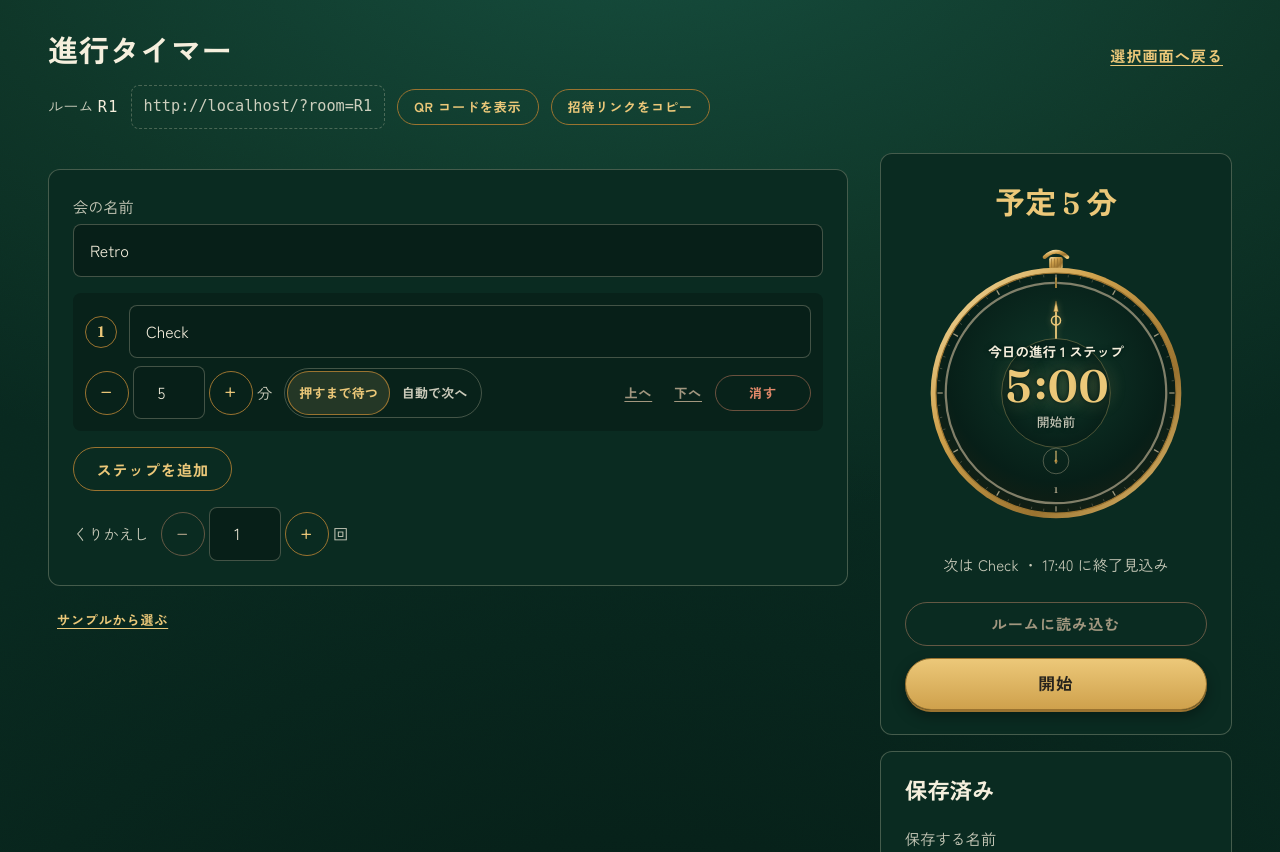
Test: サンプルから選ぶ › Given ルームに KPT があり下書きがその写しのまま / When 朝会を選ぶ / Then 確かめずに読み込む
Click the button "サンプルから選ぶ" at coordinates (113, 620), box left=48, top=602, right=177, bottom=638
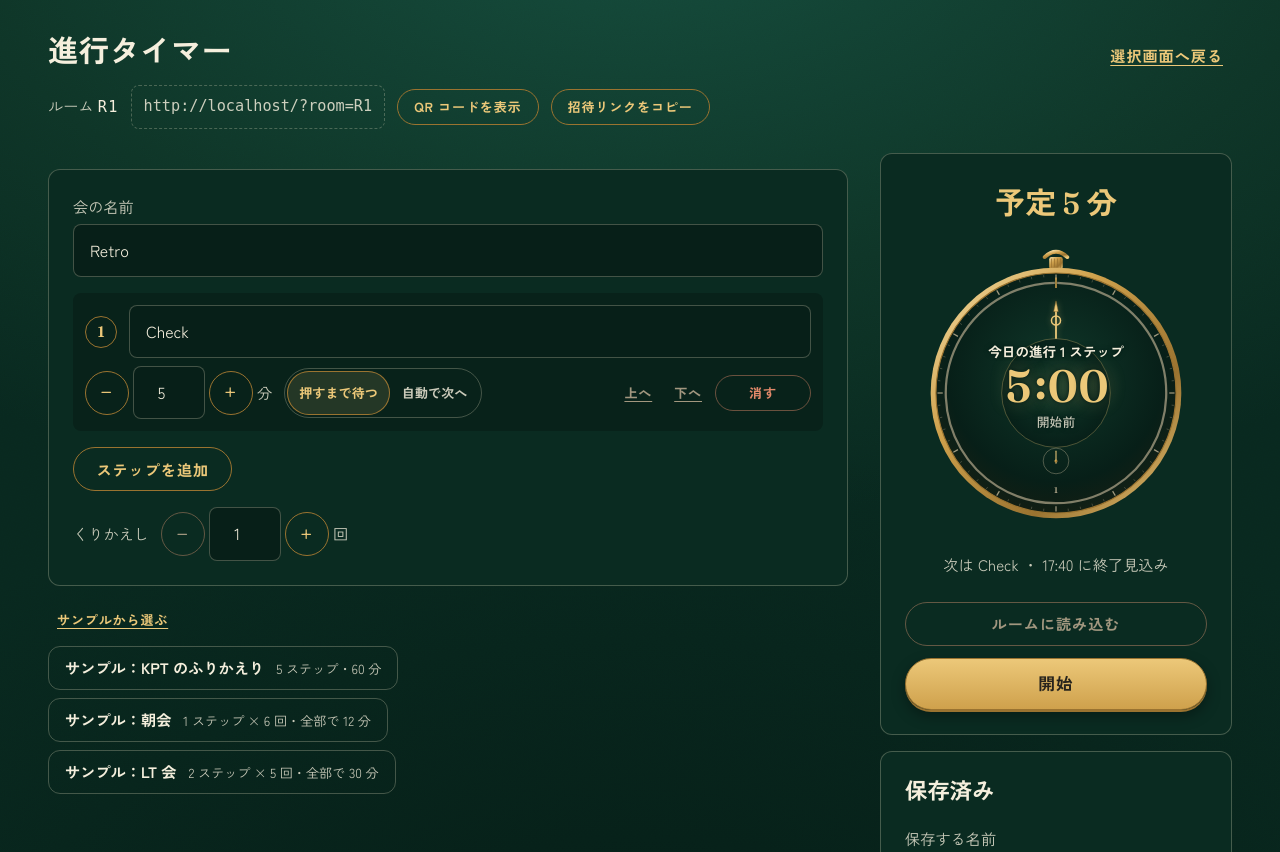
Click the button "サンプル：朝会 1 ステップ × 6 回・全部で 12 分" at coordinates (218, 720), box left=48, top=698, right=388, bottom=742
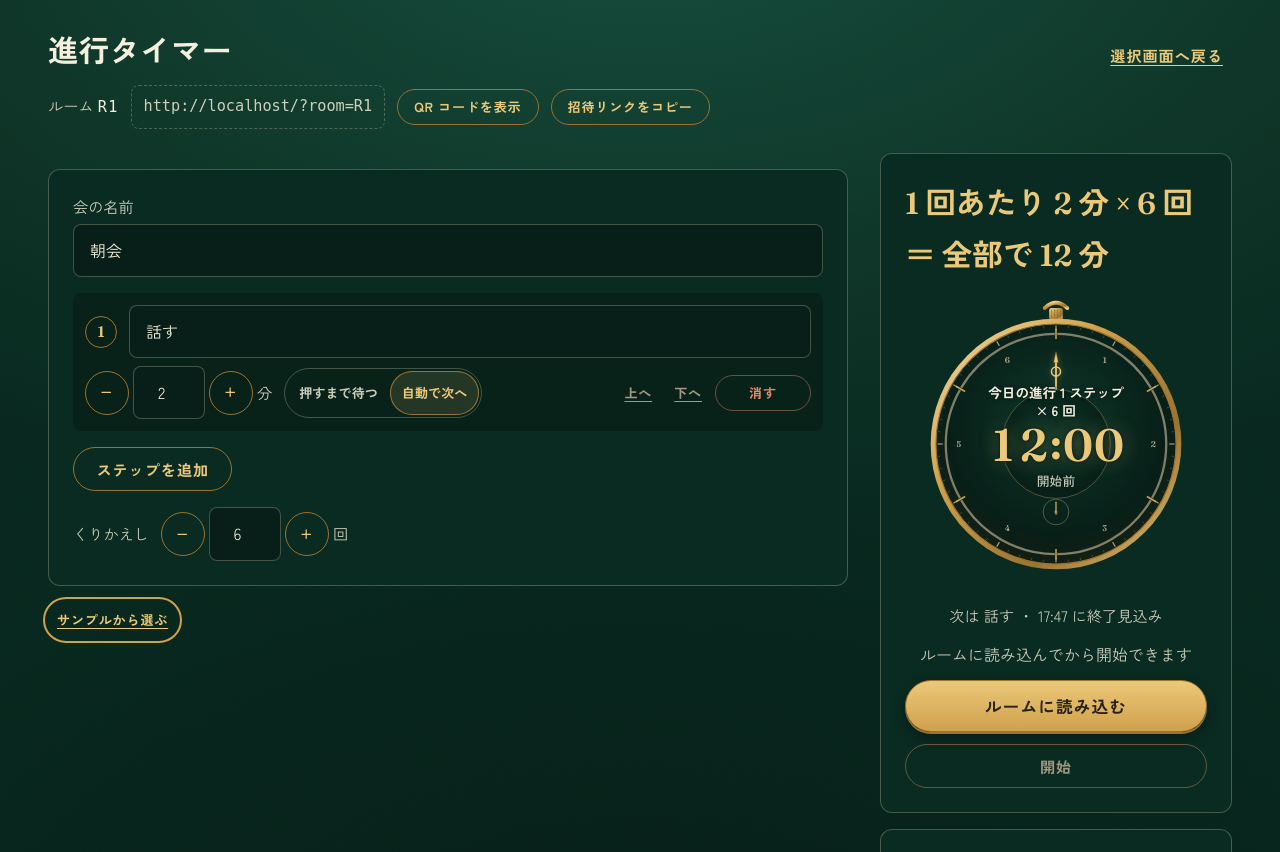
Expected: the field labelled "会の名前" holds "朝会", left=73, top=224, right=823, bottom=277
